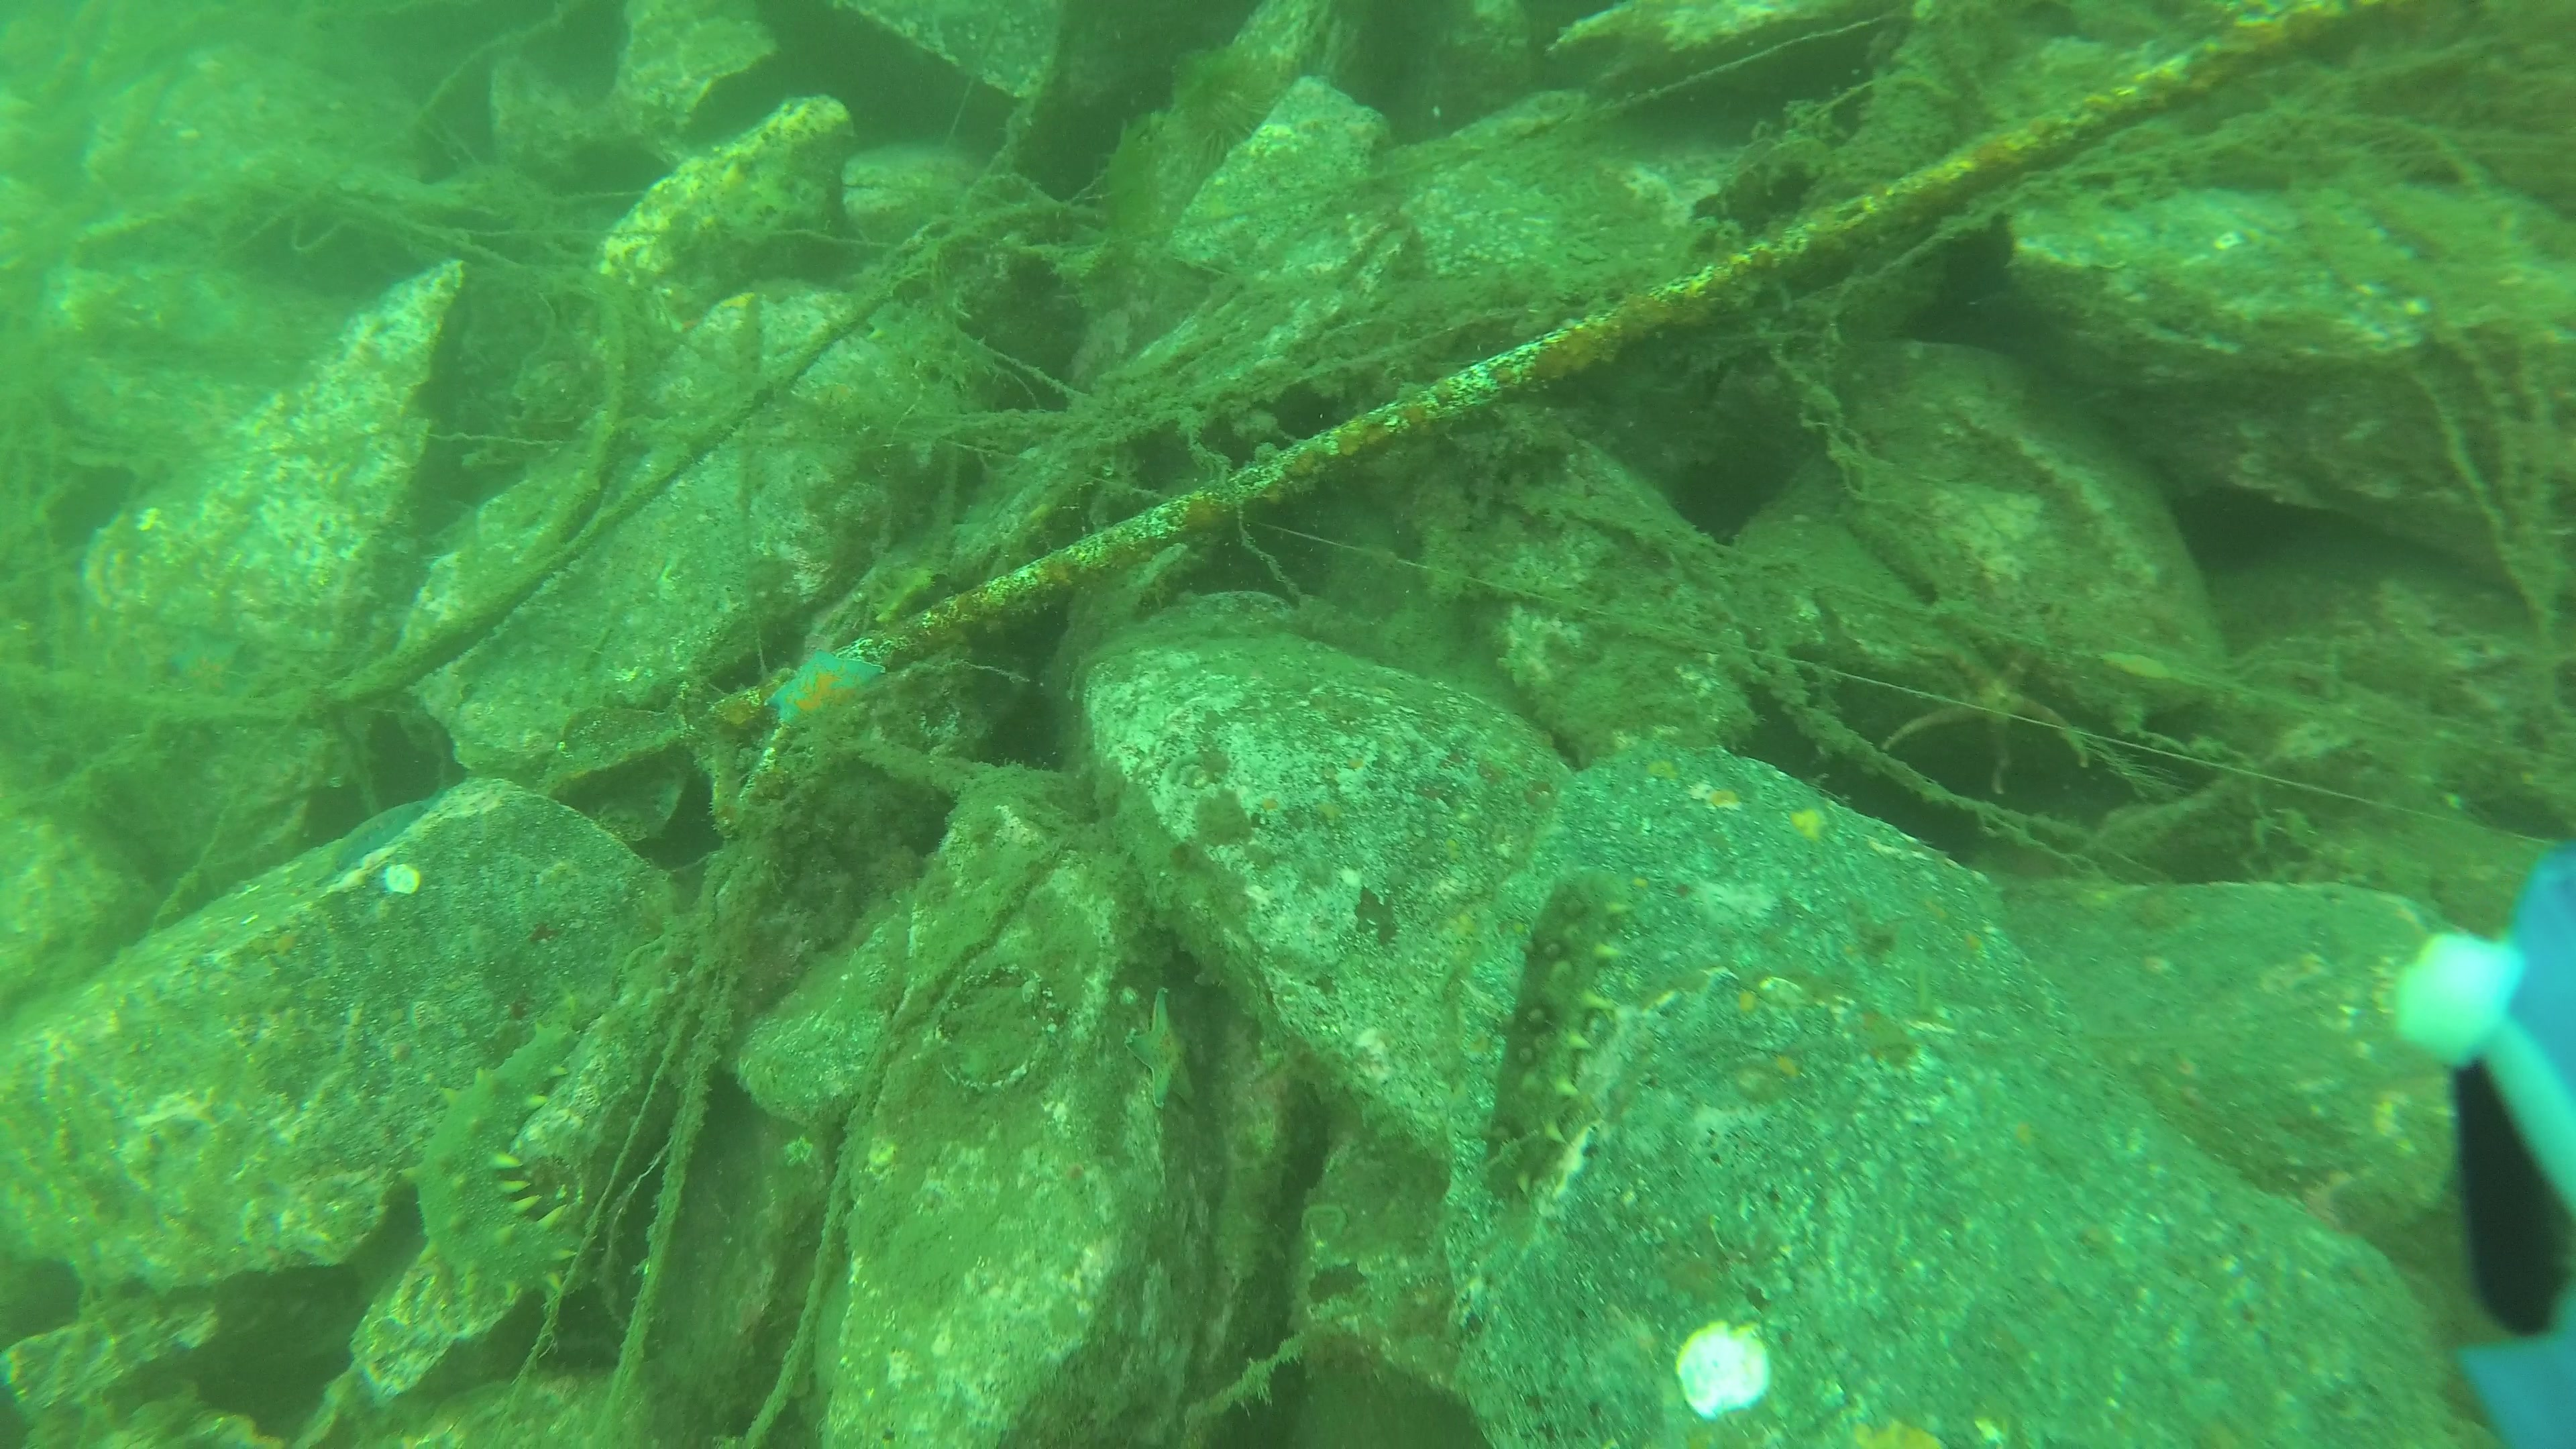echinus: (1180, 50, 1279, 165)
holothurian: (391, 1014, 587, 1322), (1470, 867, 1640, 1203)
starfish: (761, 642, 893, 743), (1118, 977, 1208, 1115), (313, 789, 449, 879), (157, 630, 253, 708)
